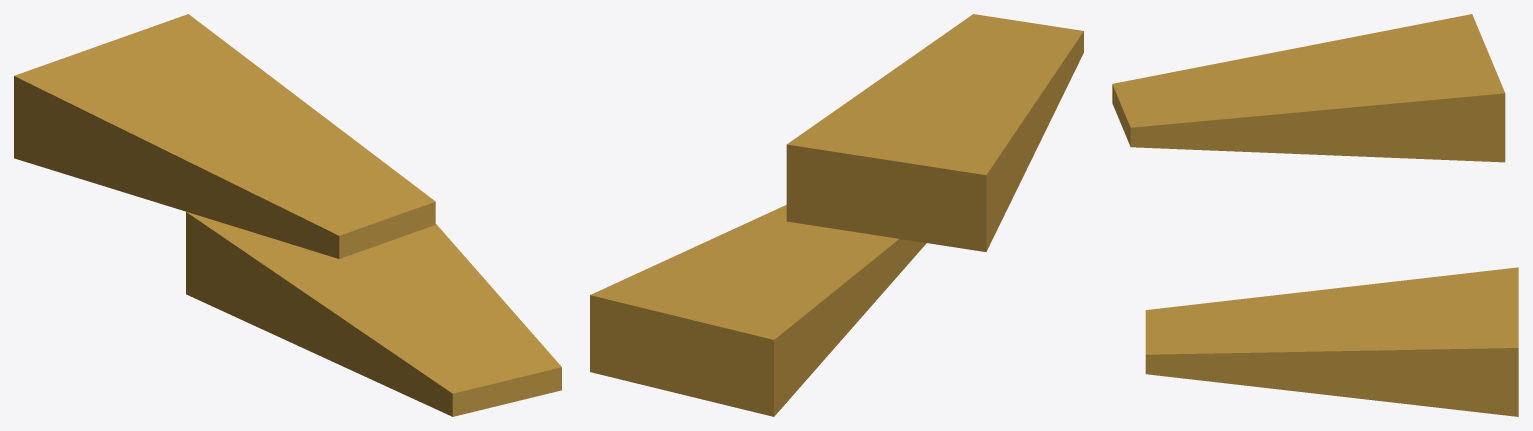
The model's file is marches_petit.FBX.
3 views of the same model, side by side, from view 1: azimuth 30°, elevation 25°; view 2: azimuth 150°, elevation 25°; view 3: azimuth 270°, elevation 25° (orthographic). The views are drawn at different scales.
Visible parts, largest first — view 1: marchespetites; view 2: marchespetites; view 3: marchespetites.
Boxes of the visible parts, x1,y1,x2,y2 form: marchespetites: (14,14,561,416); marchespetites: (590,14,1083,416); marchespetites: (1112,14,1518,416).
Size of the model in its own units: 227 by 157 by 240.
